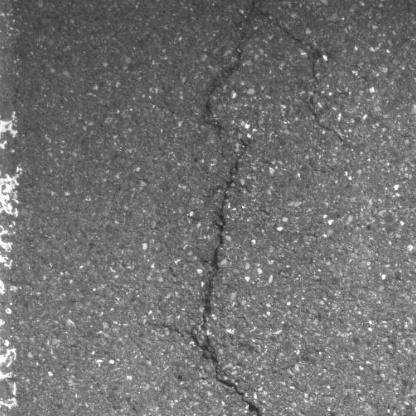Cracks: (190, 311, 291, 416), (205, 134, 252, 295), (232, 0, 306, 66), (200, 79, 228, 143)
